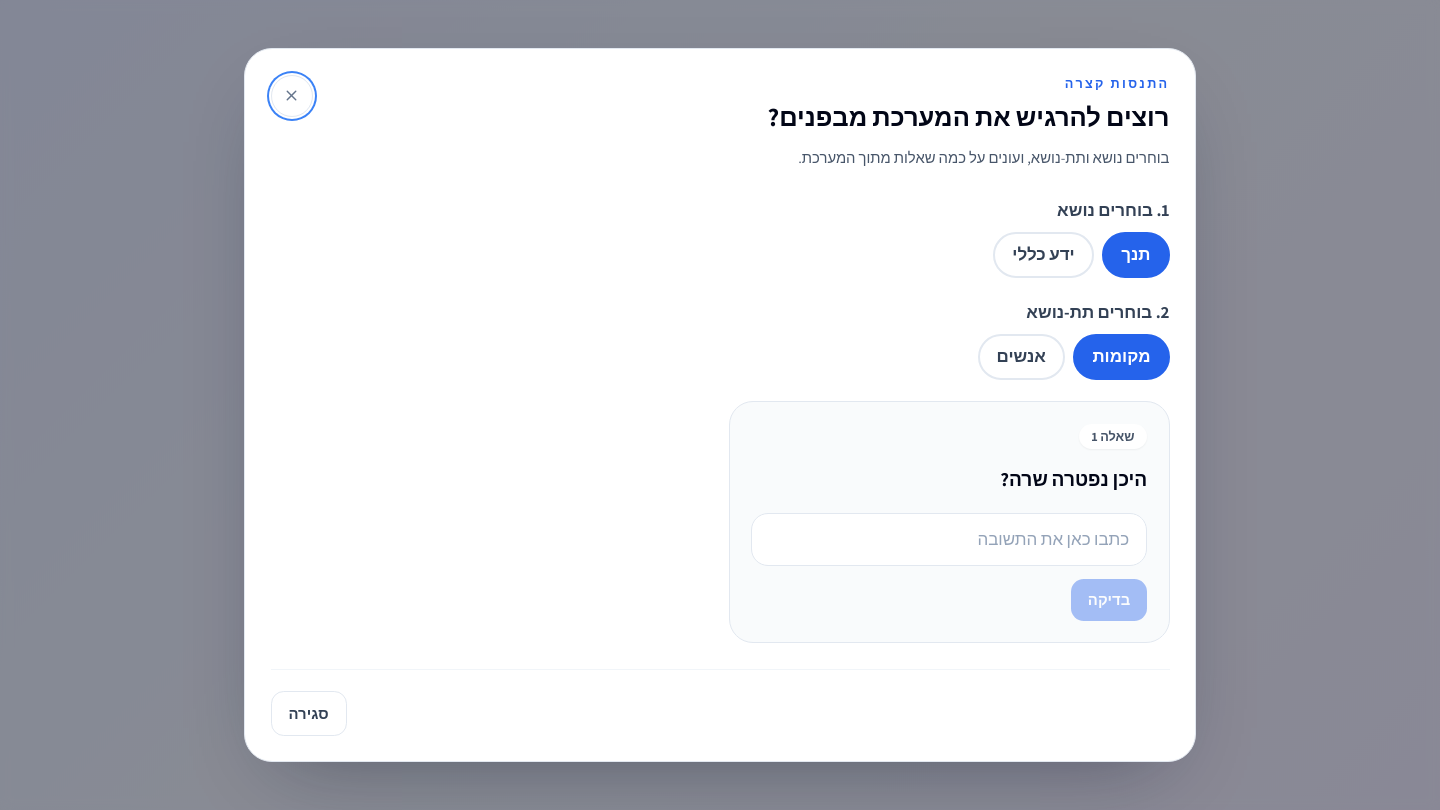
Test: חלון ההתנסות › משוב לתשובה שגויה ולתשובה נכונה, וספירה בתחתית
This screenshot has width=1440, height=810.
Type "ירושלים" into the field.
click(949, 539); type("ירושלים")  # box [751,513,1147,566]
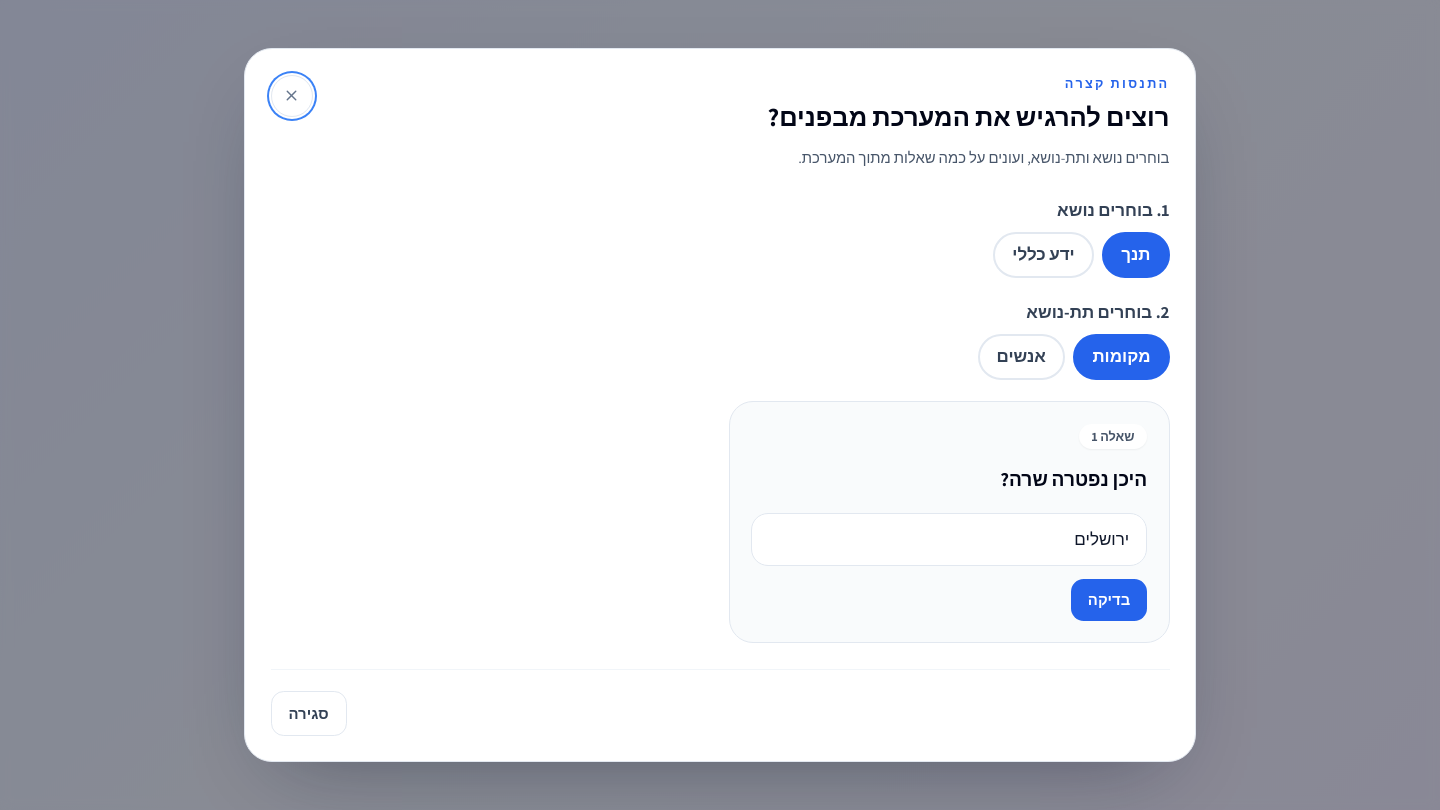
Click the button "בדיקה".
click(1109, 600)  # box [1071,578,1147,621]
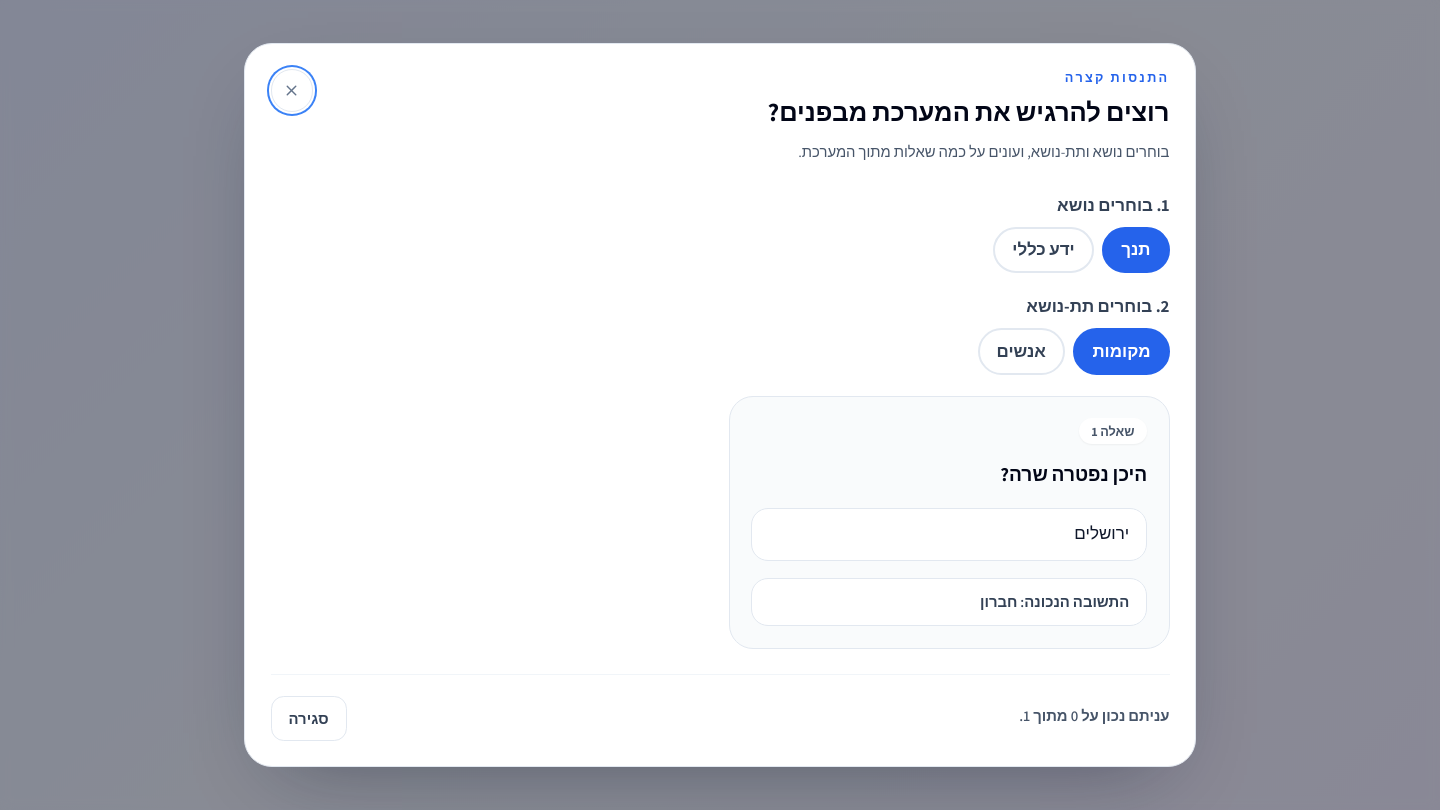
Expected: the message reads "התשובה הנכונה: חברון", [980,592,1129,611]
Click the button "אנשים".
click(1021, 352)  # box [978,328,1065,375]
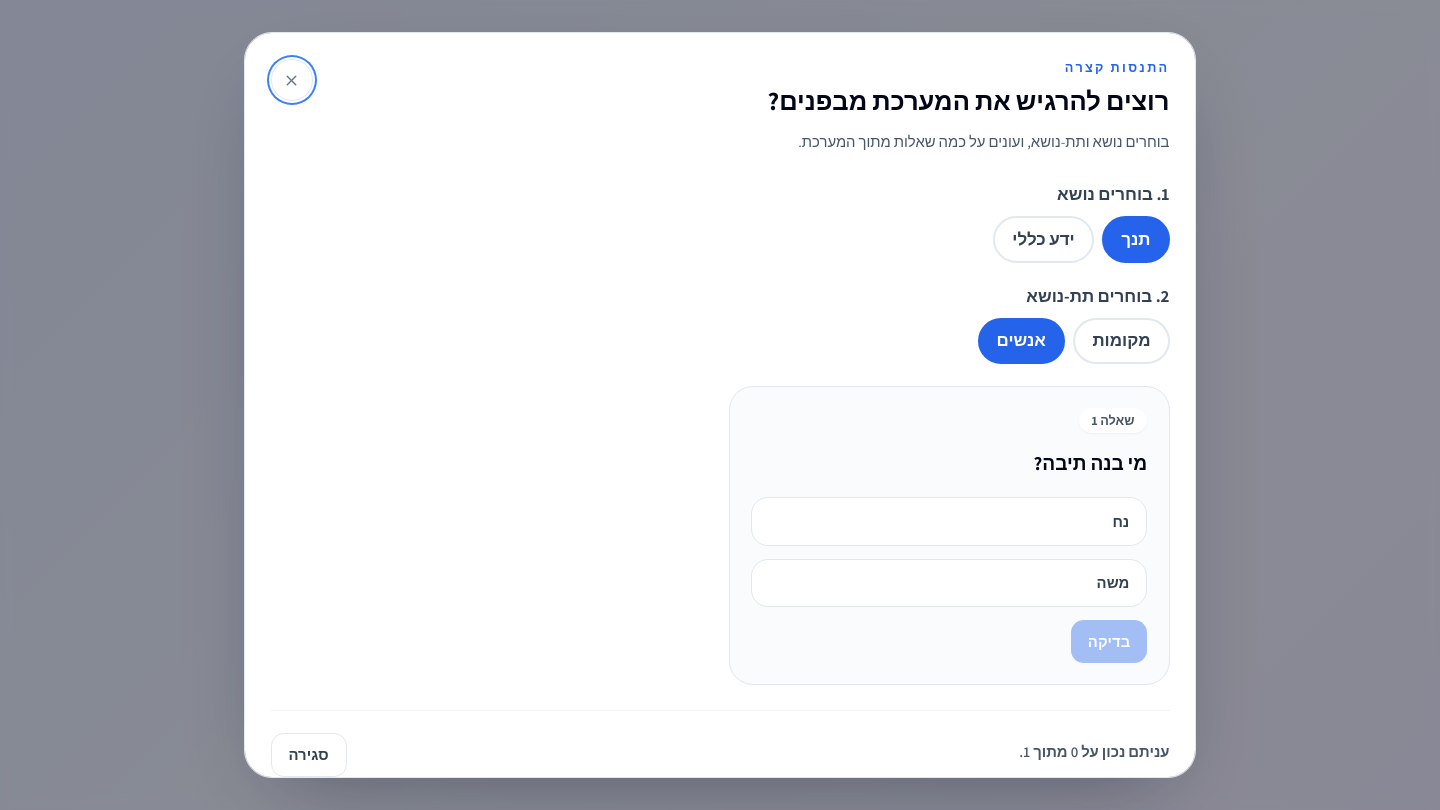
Click the button "נח".
click(1121, 521)  # box [751,497,1147,546]
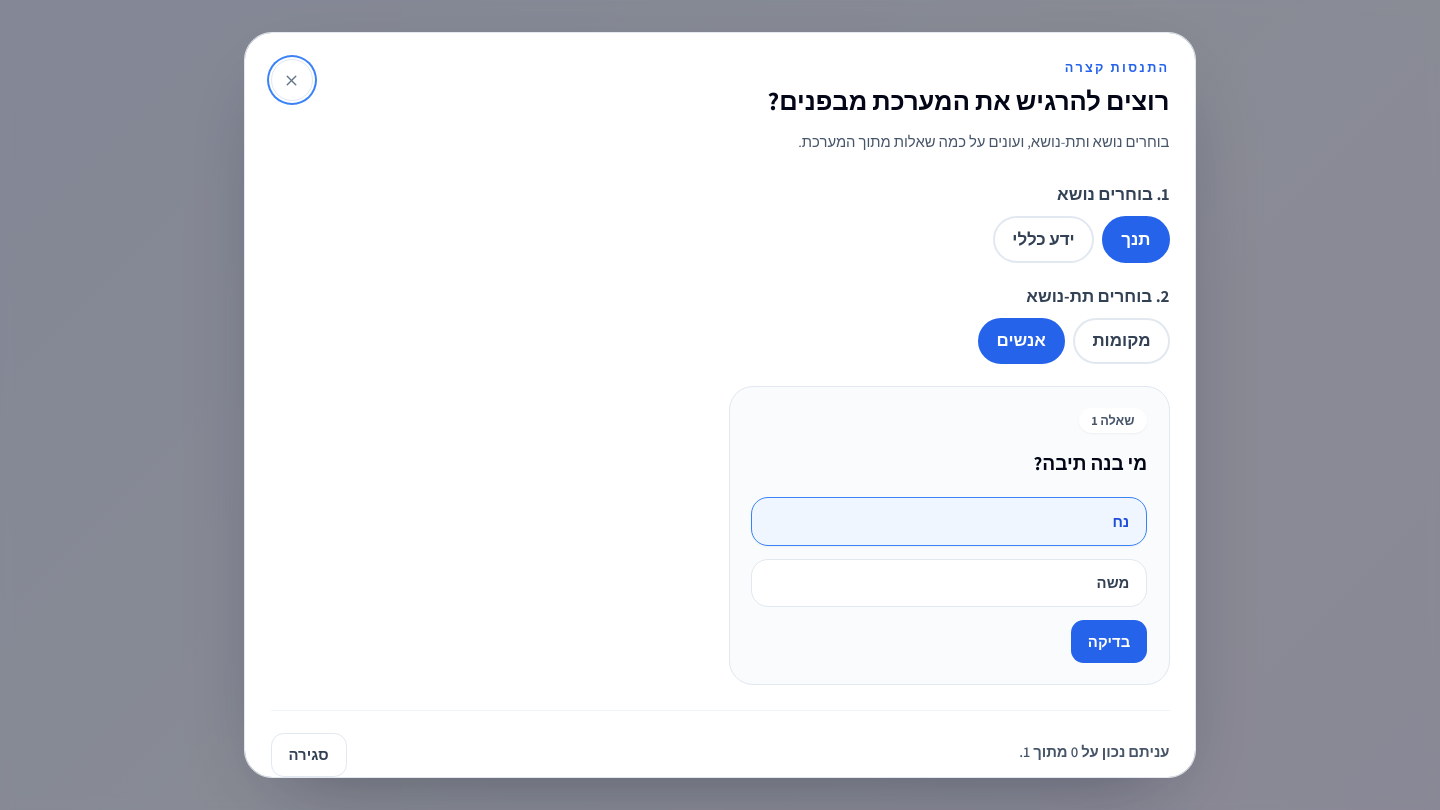
Click the button "בדיקה".
click(1109, 641)  # box [1071,620,1147,663]
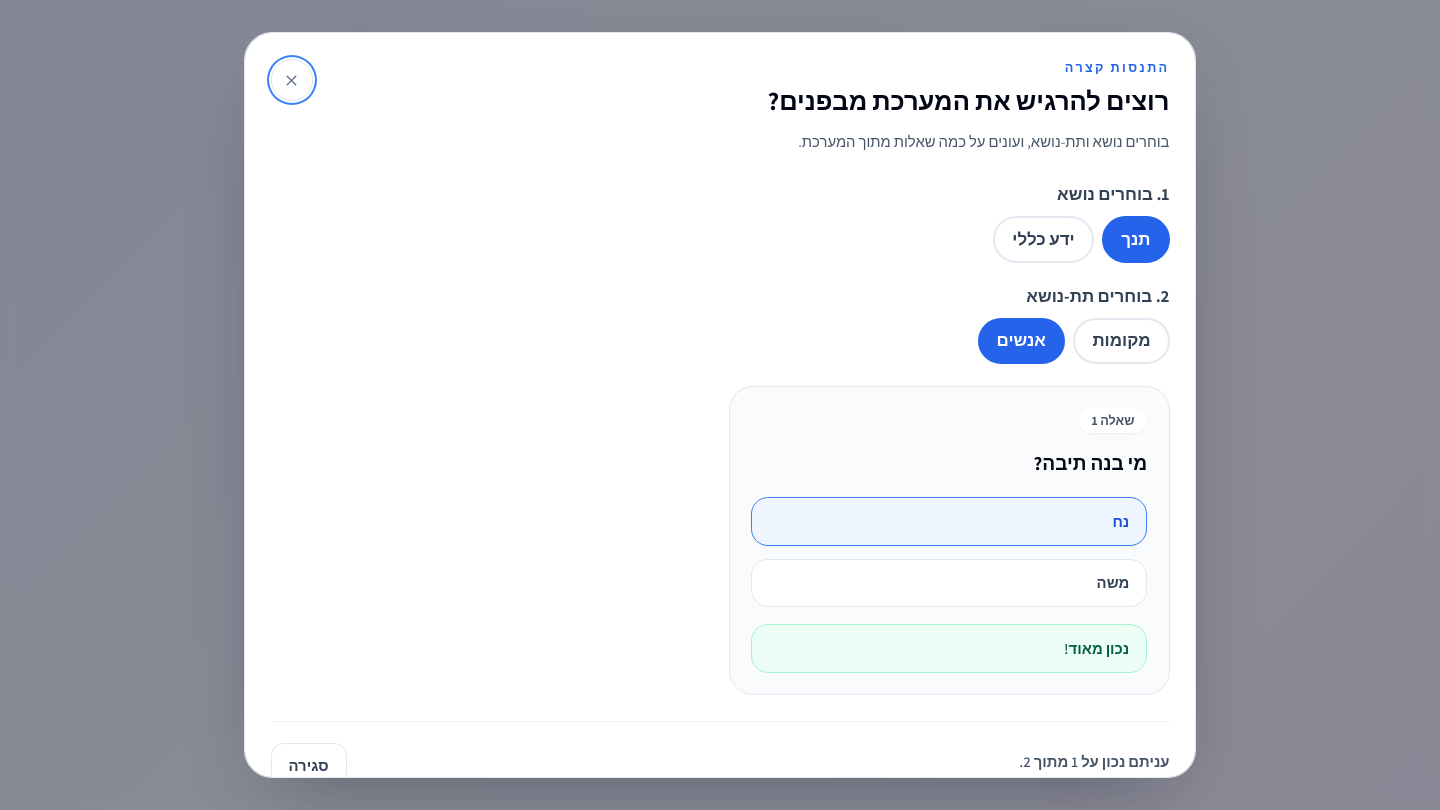
Expected: the message shows "נכון מאוד", [1064,639,1129,658]
Expected: the text "עניתם נכון על 1 מתוך 2." is shown, [1019,751,1170,778]
